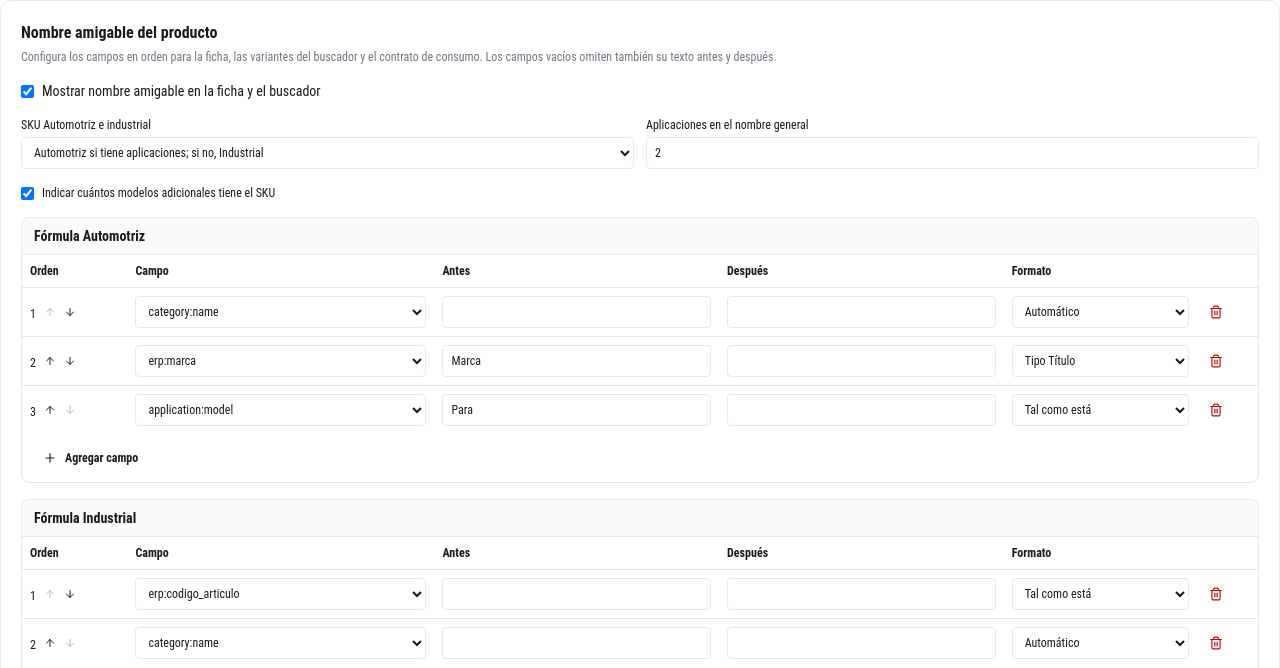
Test: ProductNameSettings › retains the formula draft and saved version when a concurrent save is rejected
The image size is (1280, 668).
expect the heading "Nombre amigable del producto" is shown: met, box [21,23,217,42]
Replace the text in the field named "Antes del campo 2 de Automotriz" with "Fabricante " at (577, 361), box [442,345,711,377]
(page scrolled)
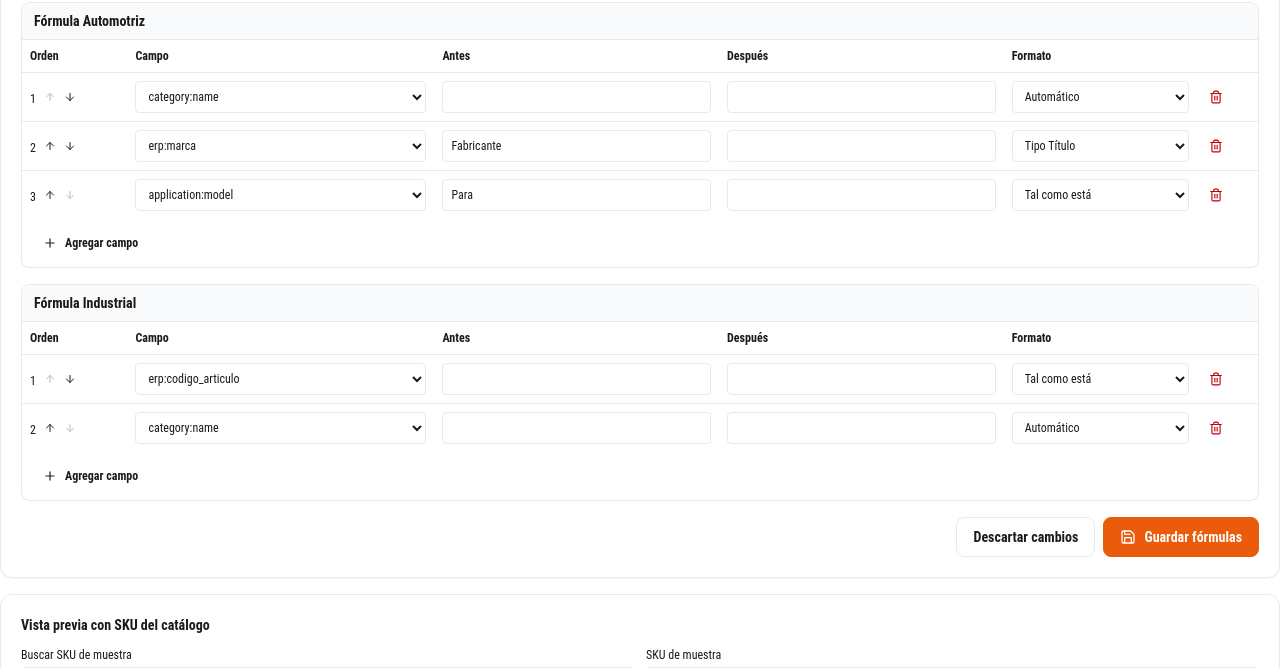
Click the button "Guardar fórmulas" at (1181, 537), box [1103,517,1259,557]
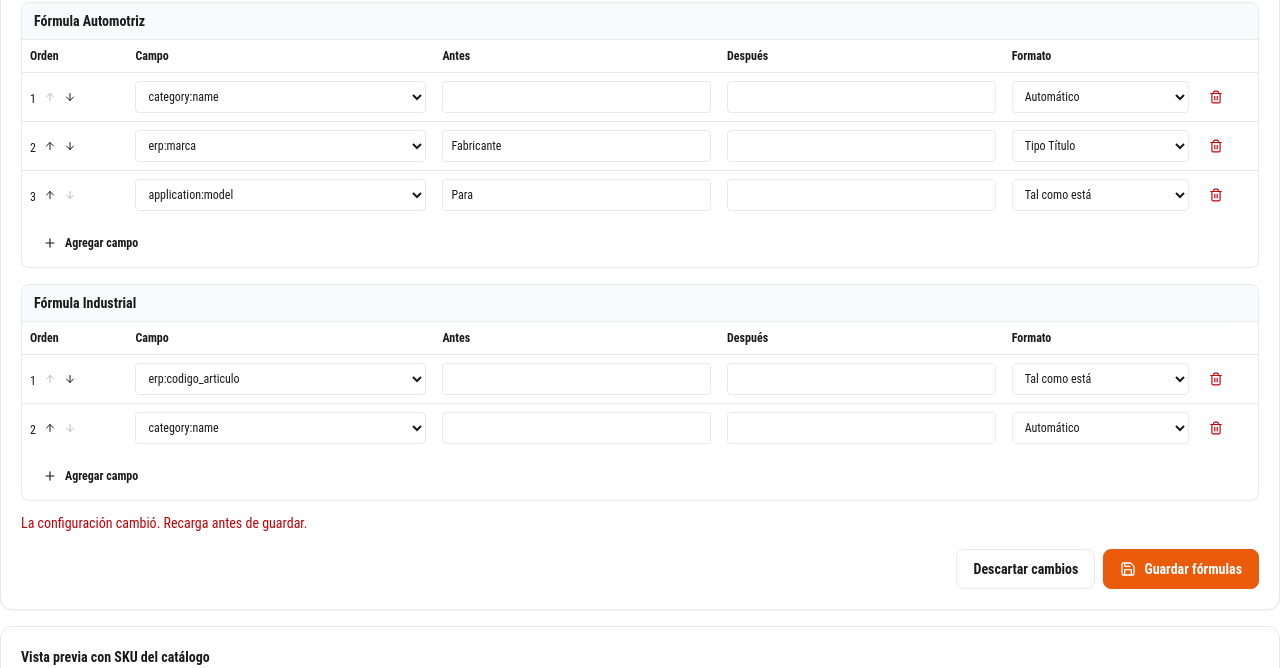
expect the button "Guardar fórmulas" is enabled: met, box [1103,549,1259,589]
expect the message reads "La configuración cambió. Recarga antes de guardar.": met, box [21,515,308,531]
Click the button "Descartar cambios" at (1026, 569), box [956,549,1096,589]
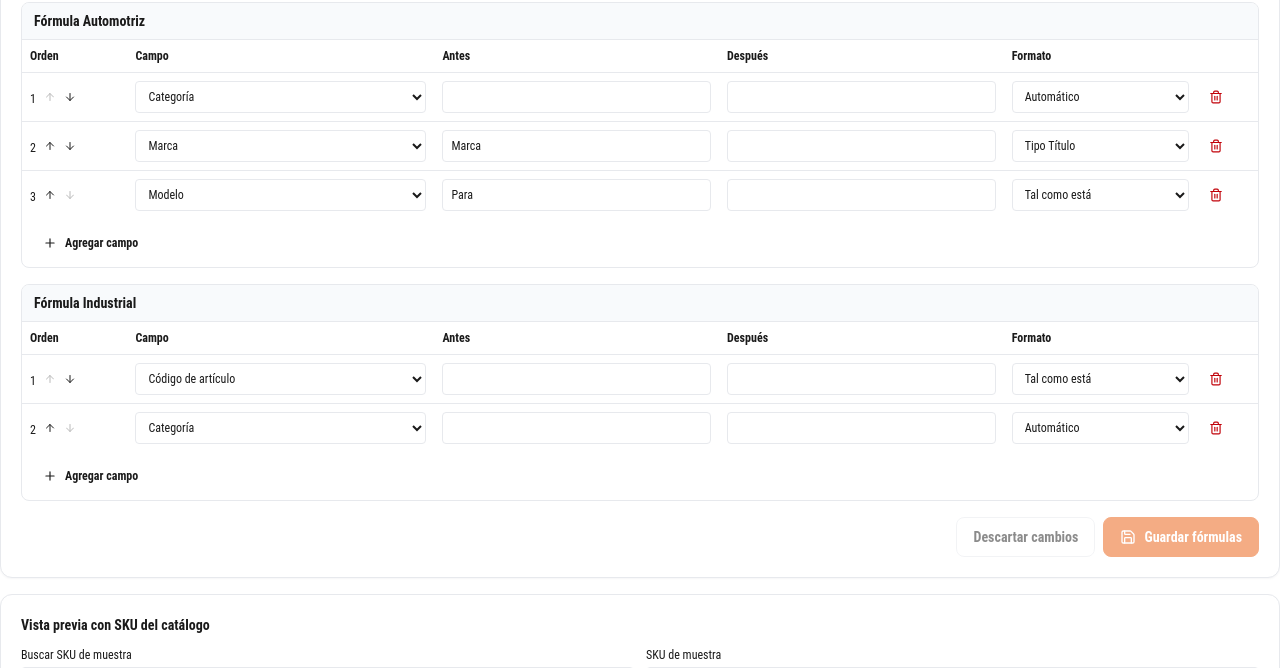
expect the field named "Antes del campo 2 de Automotriz" holds "Marca ": met, box [442,130,711,162]
expect the message "La configuración cambió. Recarga antes de guardar." is gone: met
